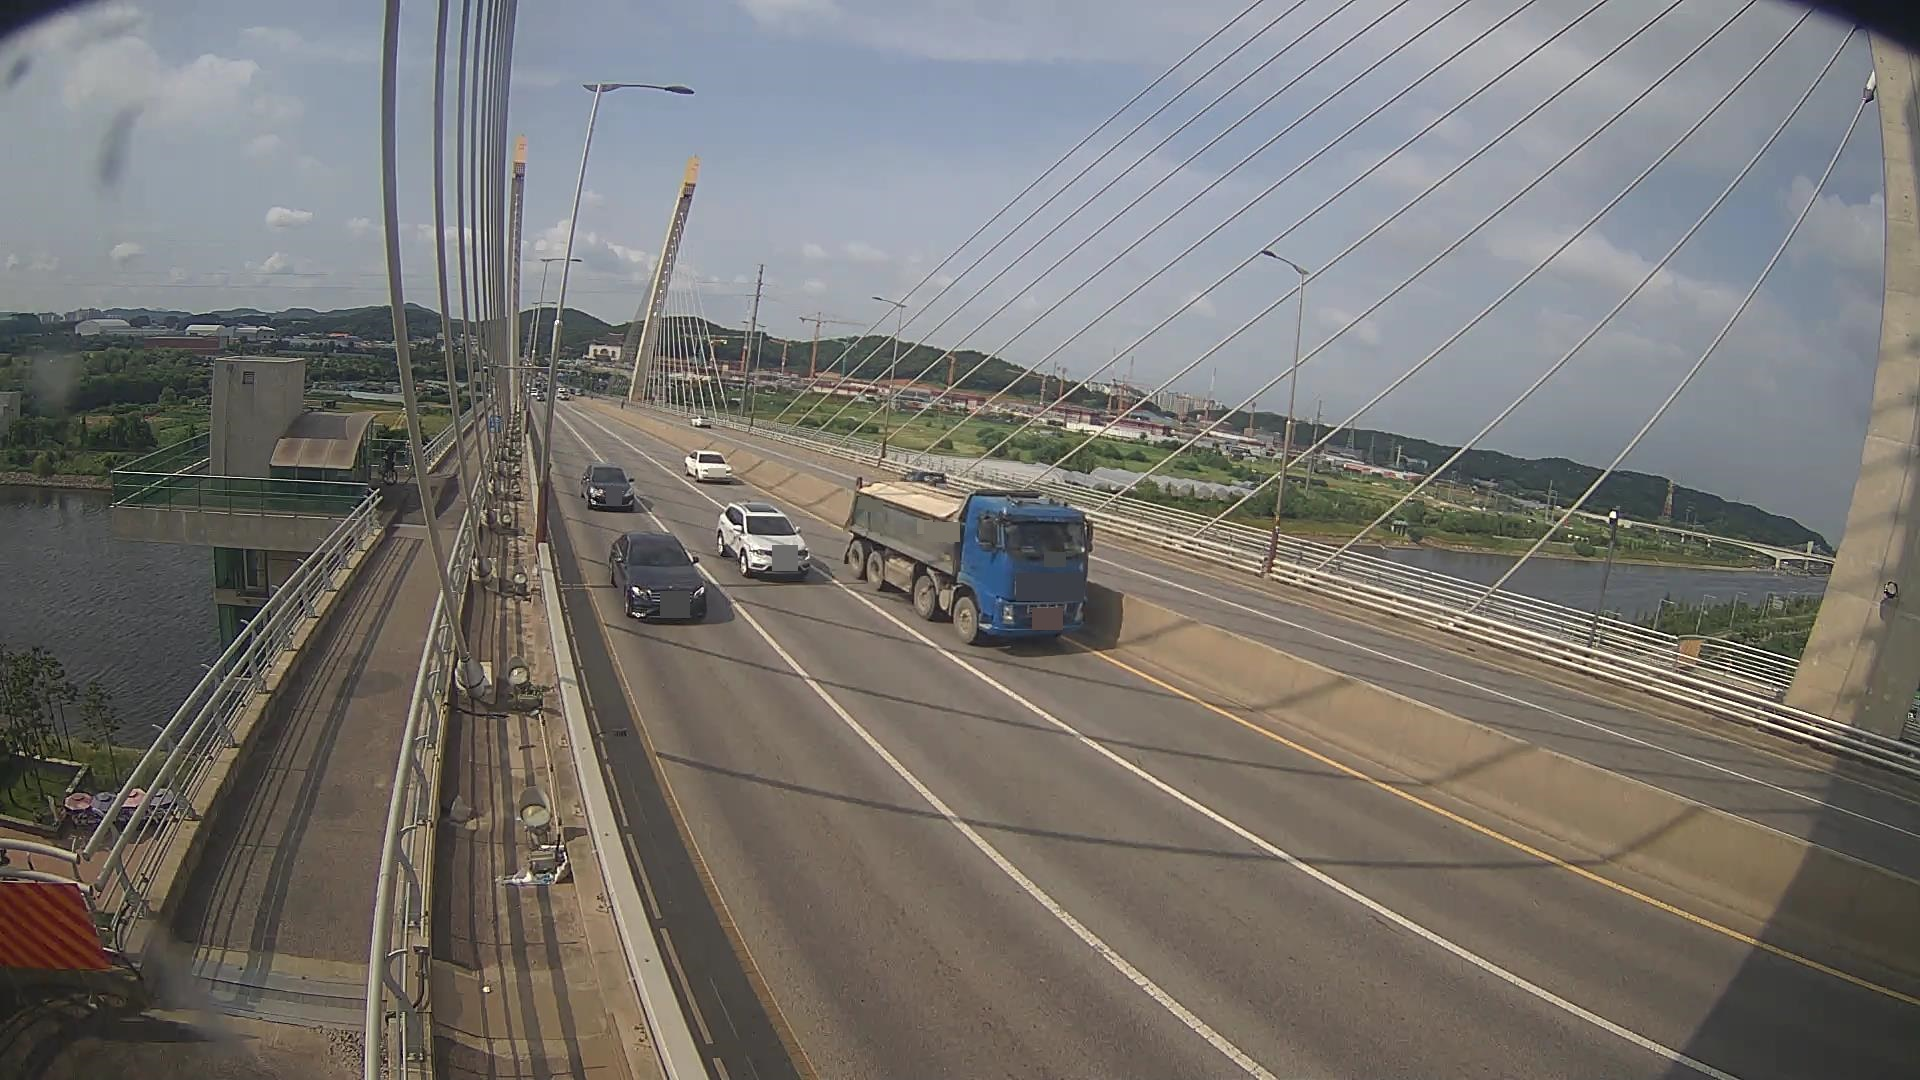정상차량: (844, 477, 1093, 645)
